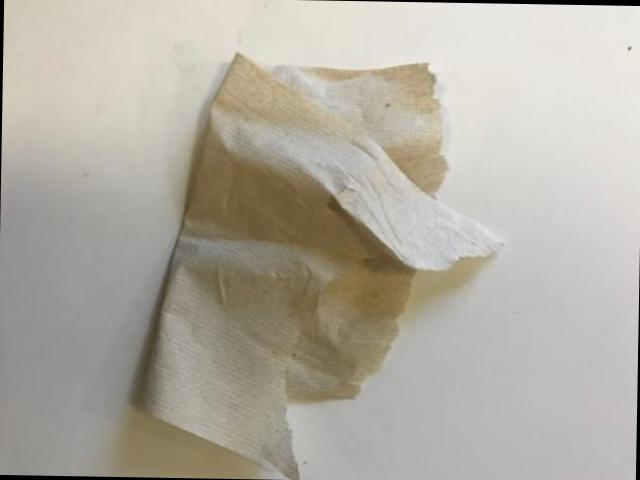cardboard paper: (145, 52, 505, 478)
